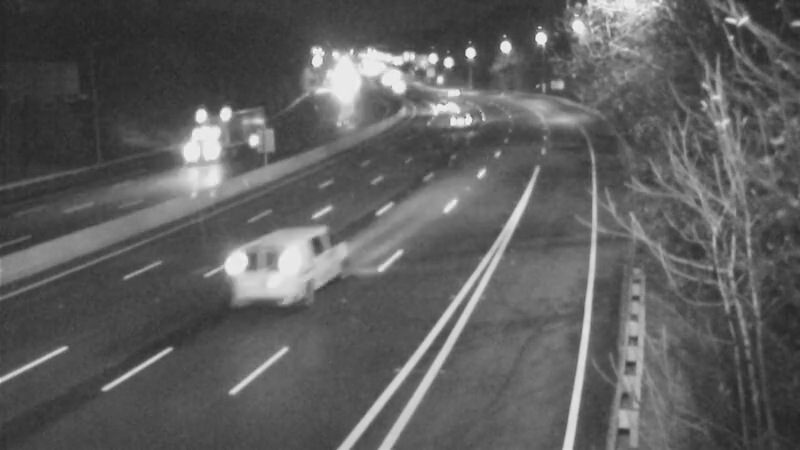vehicle: (217, 236, 297, 316), (414, 85, 464, 135), (435, 91, 485, 141), (187, 120, 237, 170)
